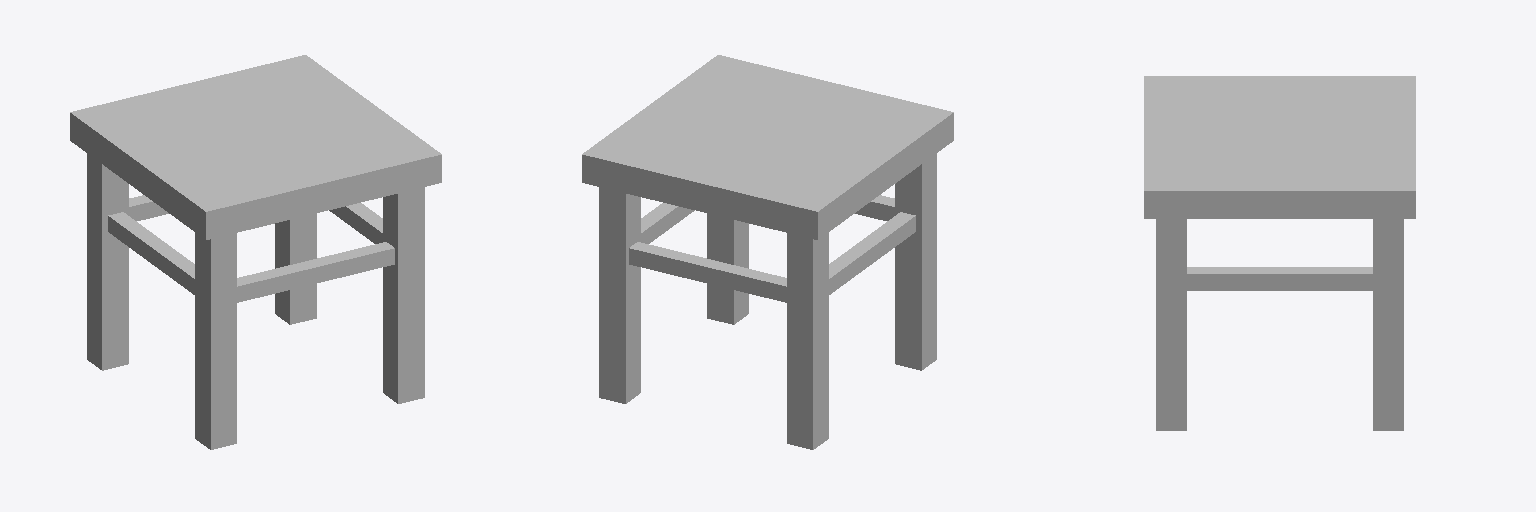
File: multidecor_kitchen_modern_wooden_table.obj
3 renders of one model, left to right at view 1: azimuth 30°, elevation 25°; view 2: azimuth 150°, elevation 25°; view 3: azimuth 270°, elevation 25°, orthographic.
Visible parts, largest first — view 1: Cube; view 2: Cube; view 3: Cube.
Part boxes in pixels (left/top/right/bottom): Cube: left=70, top=55, right=441, bottom=449; Cube: left=582, top=55, right=953, bottom=449; Cube: left=1144, top=76, right=1415, bottom=430.
Bounding box in the file's own units: 2.52 × 2.5 × 2.52.